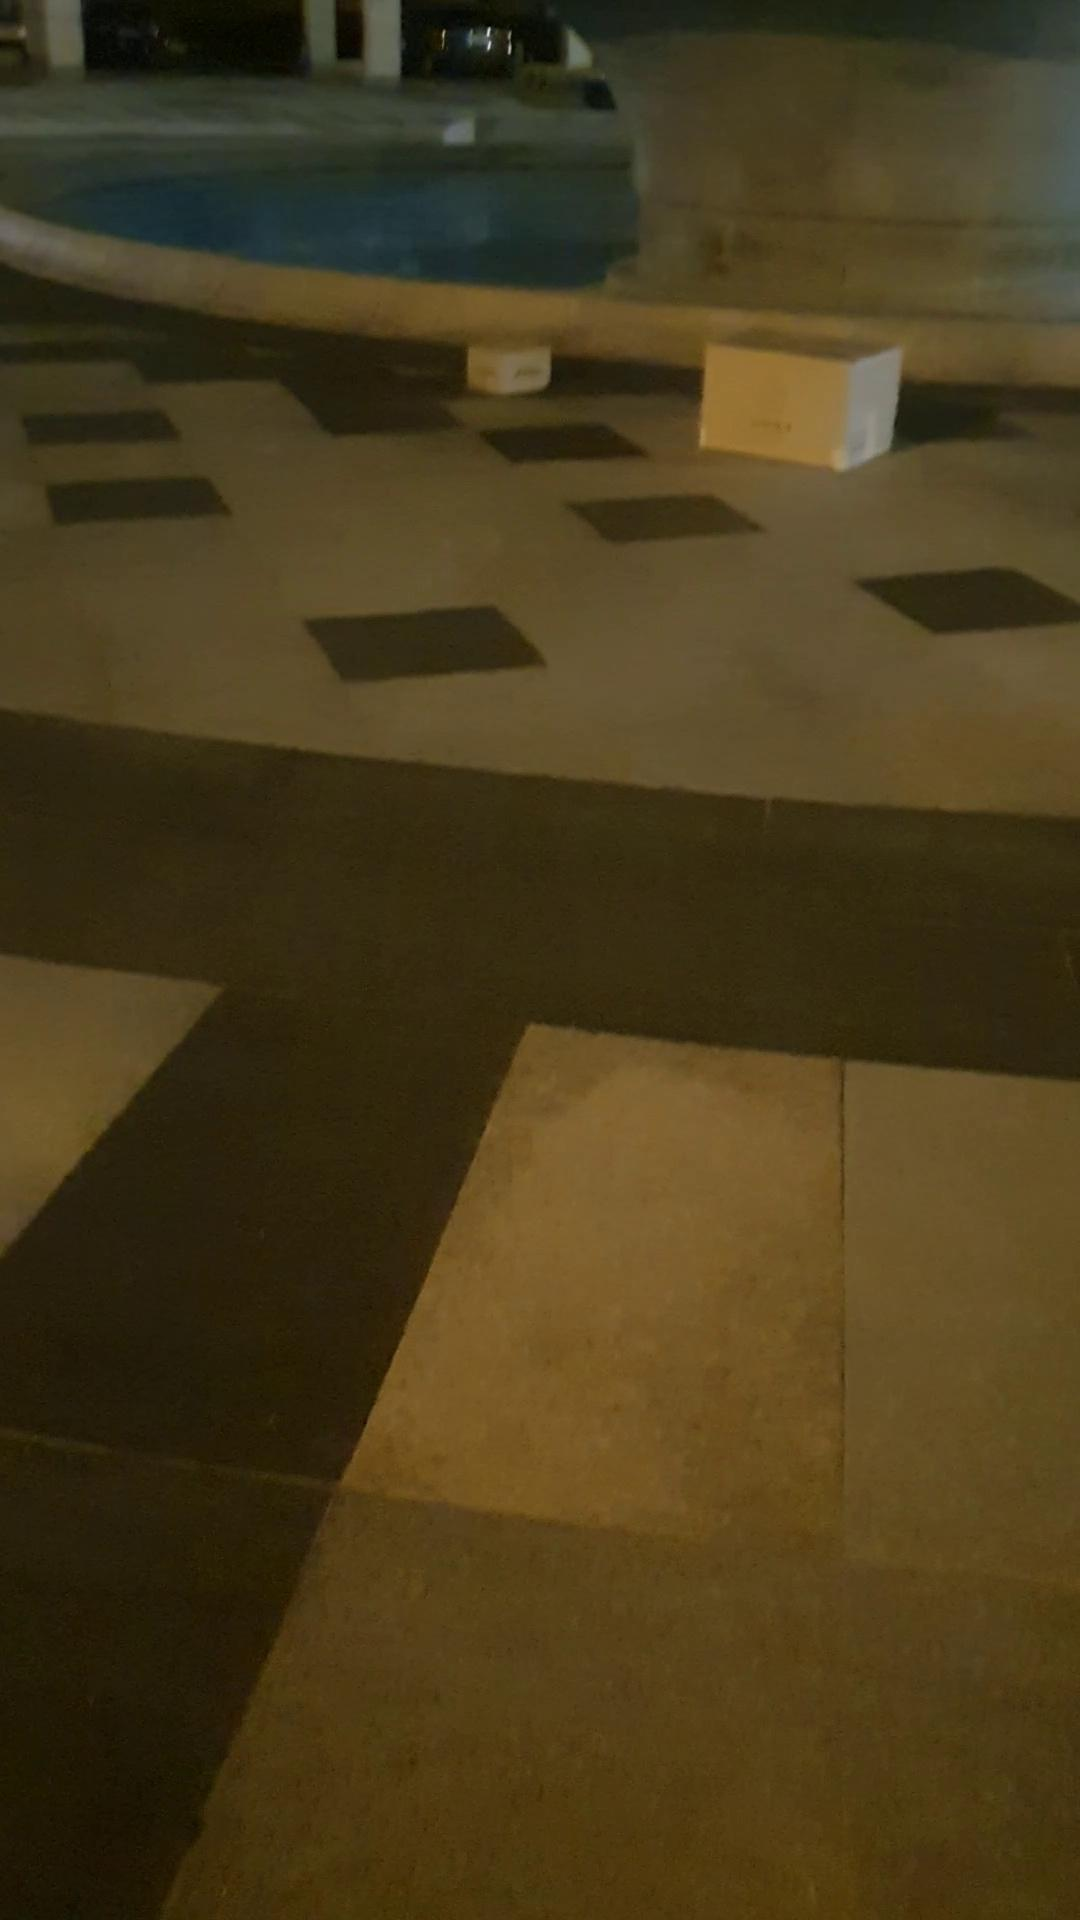Box: (688, 323, 905, 475), (456, 324, 558, 400)
